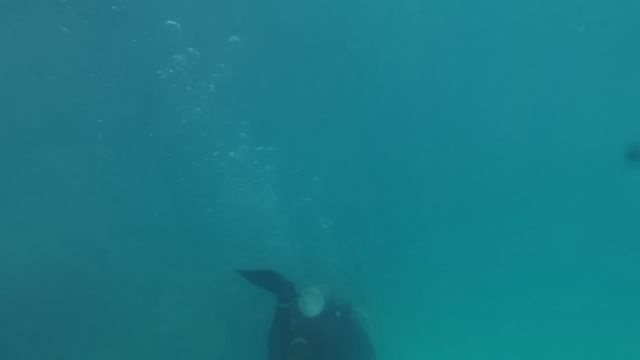Diver: (228, 255, 379, 358)
